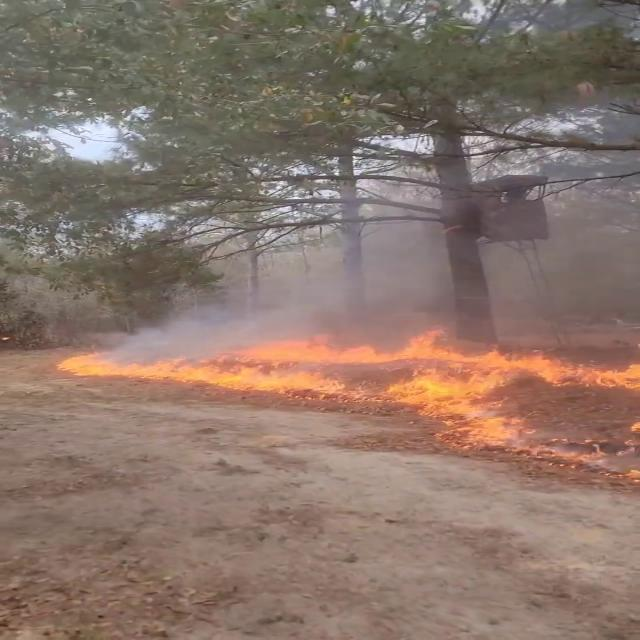Fire: (54, 325, 638, 446)
Smoke: (197, 178, 640, 337)
